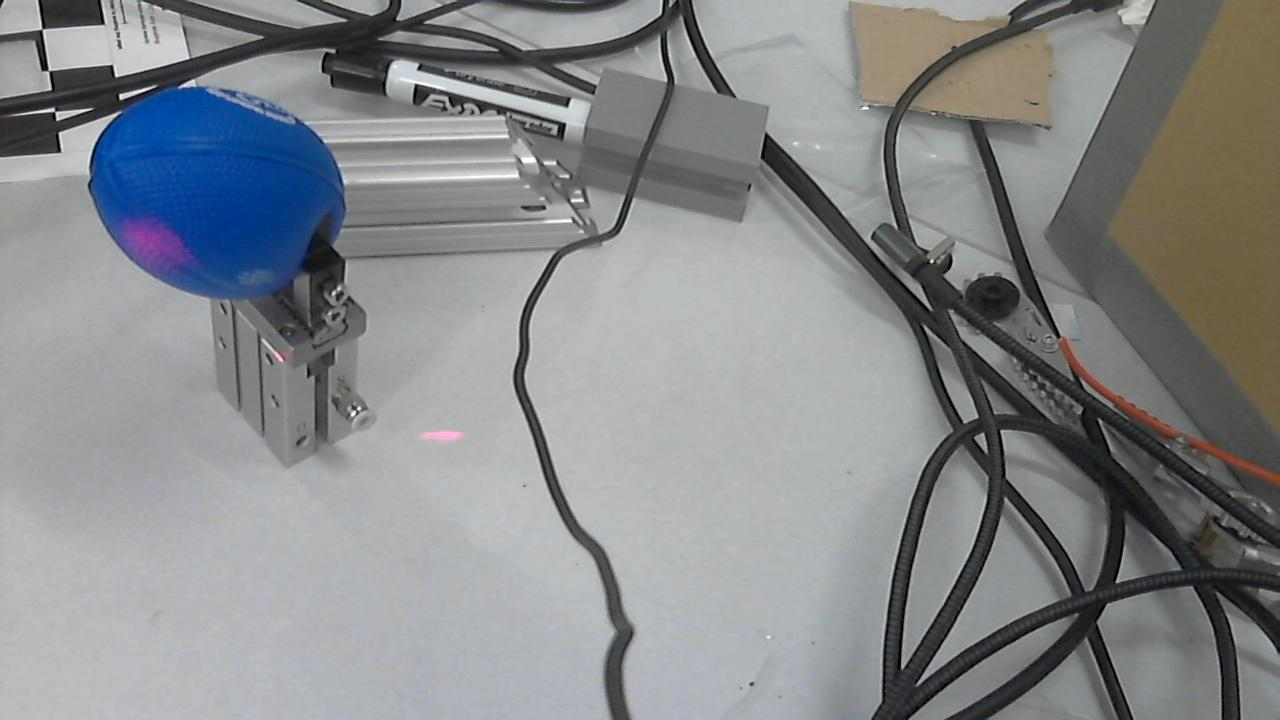Object toy football - Material foam - Color blue - Pdfname VT1ffZoLOnKv: (104, 204, 221, 289)
